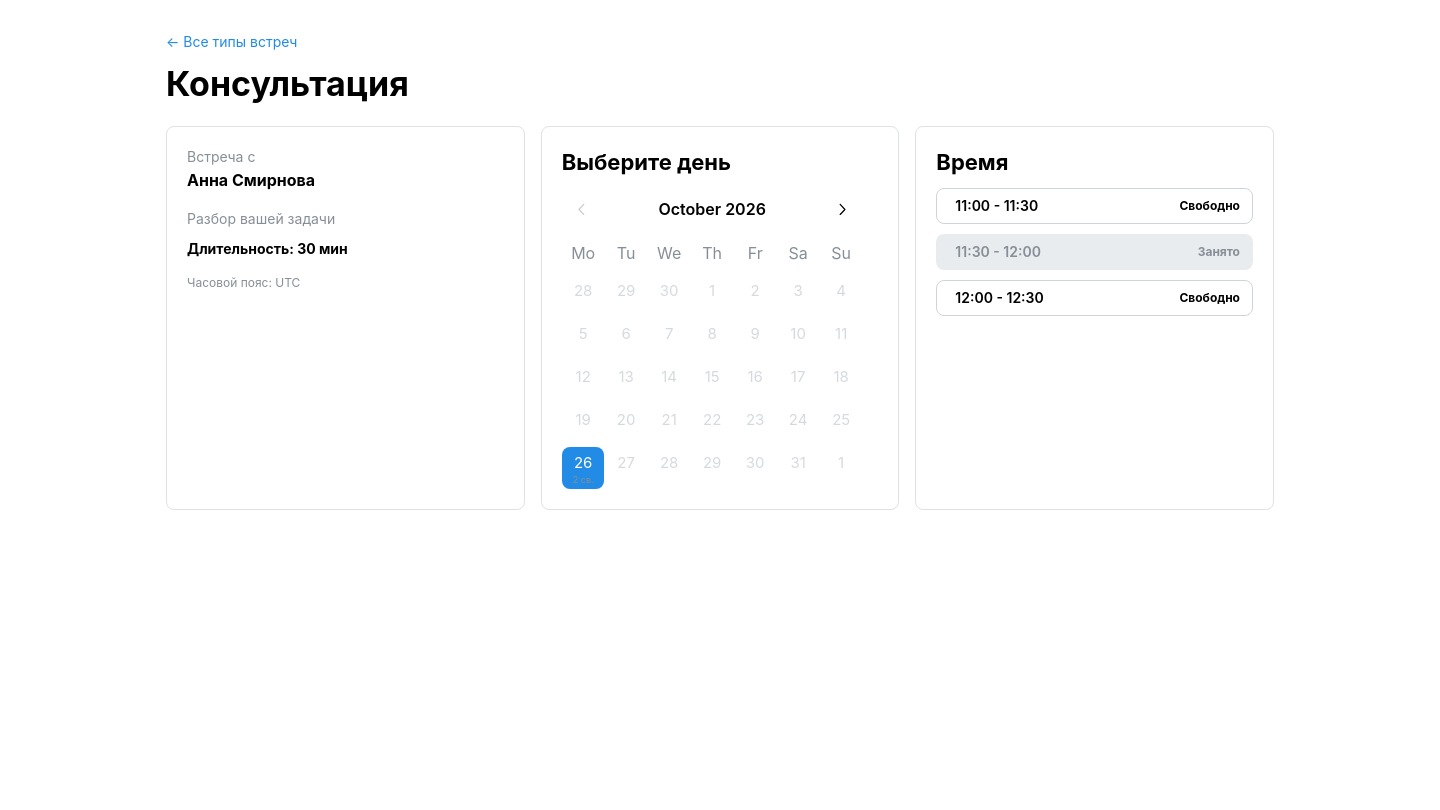
Test: гостевая страница: запись на выбранный тип встречи › выбор слота открывает форму, успешная бронь — подтверждение
Click the button "11:00 - 11:30 Свободно".
click(997, 206)  # box [936,188,1253,224]
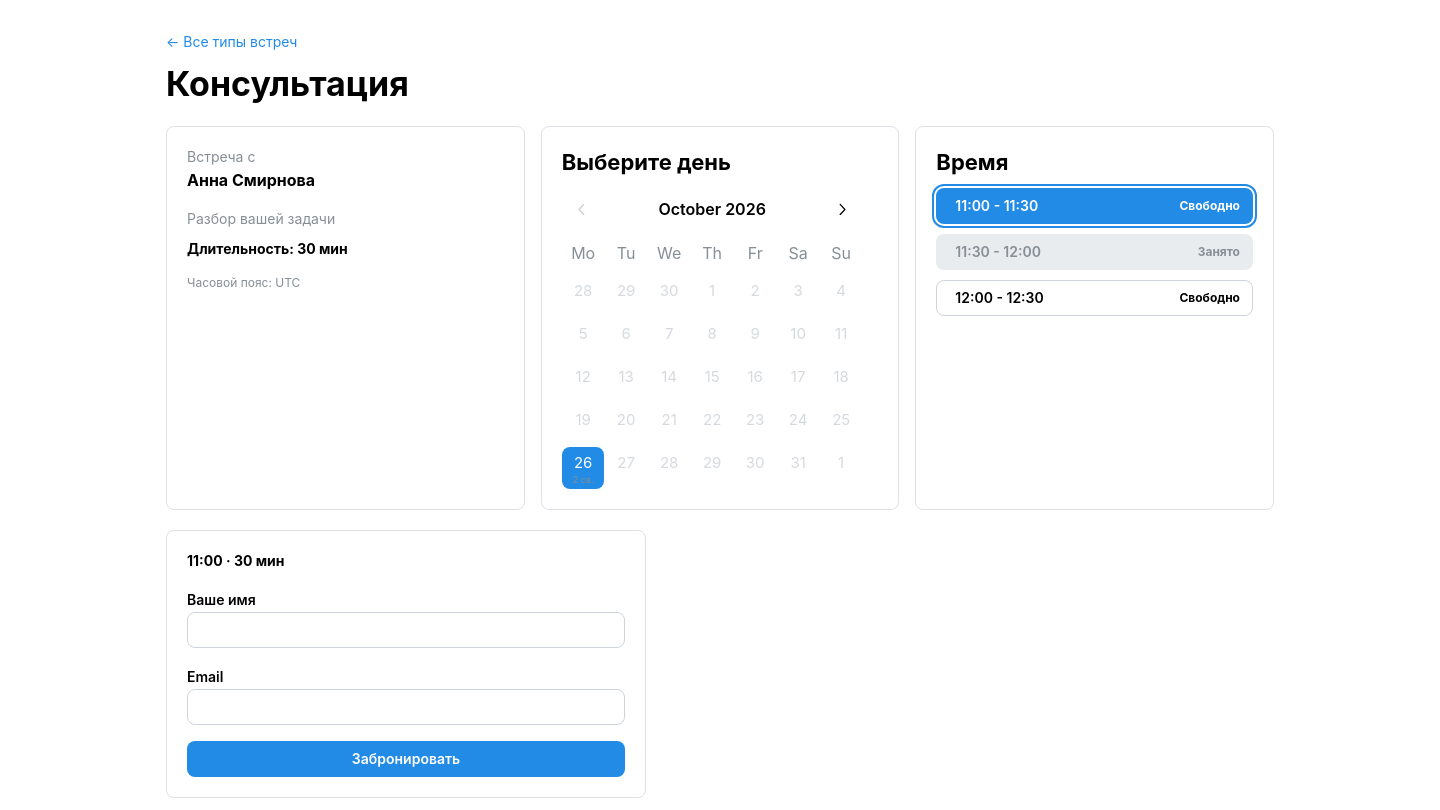
Type "Гость" into the field labelled "Ваше имя".
click(406, 630); type("Гость")  # box [187,612,625,648]
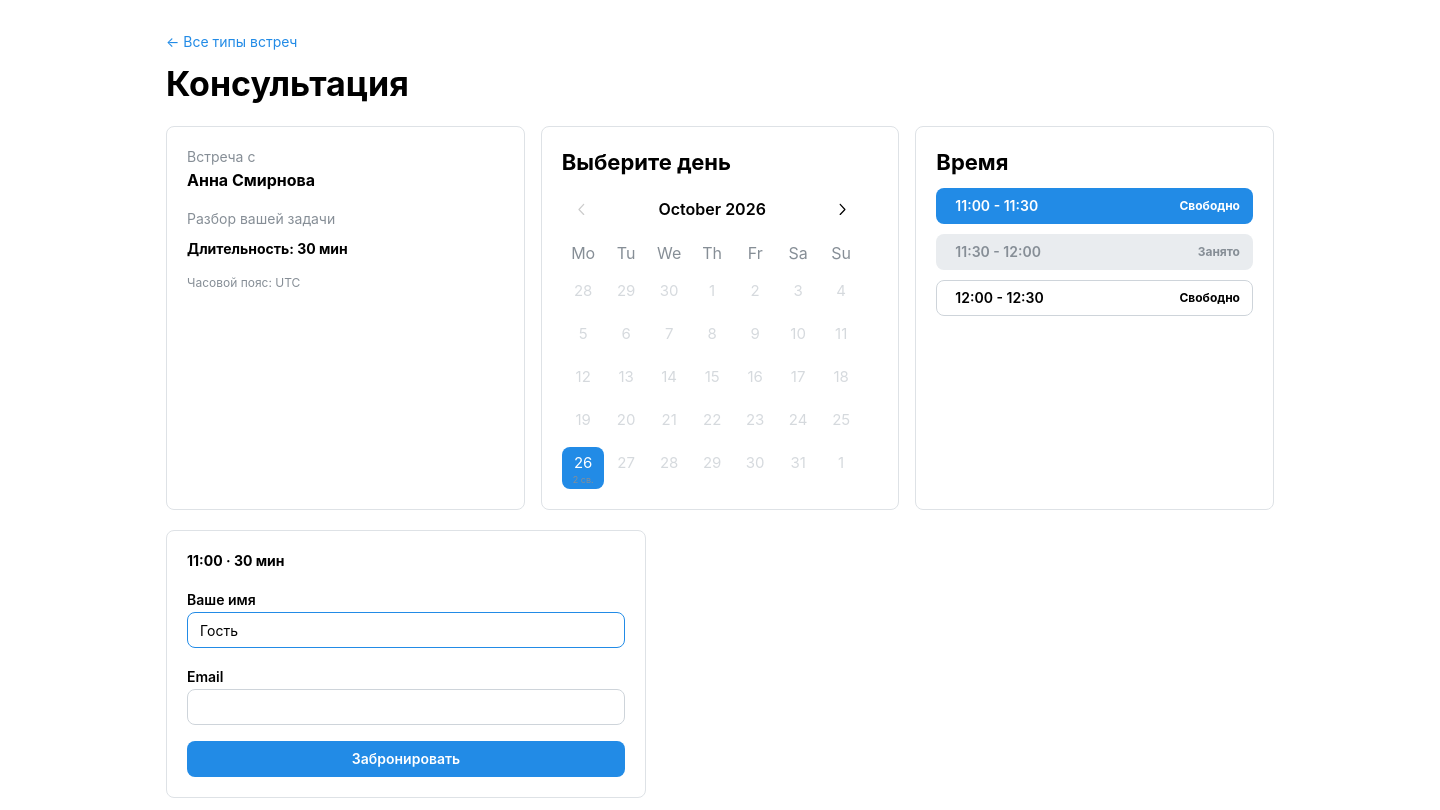
Type "guest@example.com" into the field labelled "Email".
click(406, 707); type("guest@example.com")  # box [187,689,625,725]
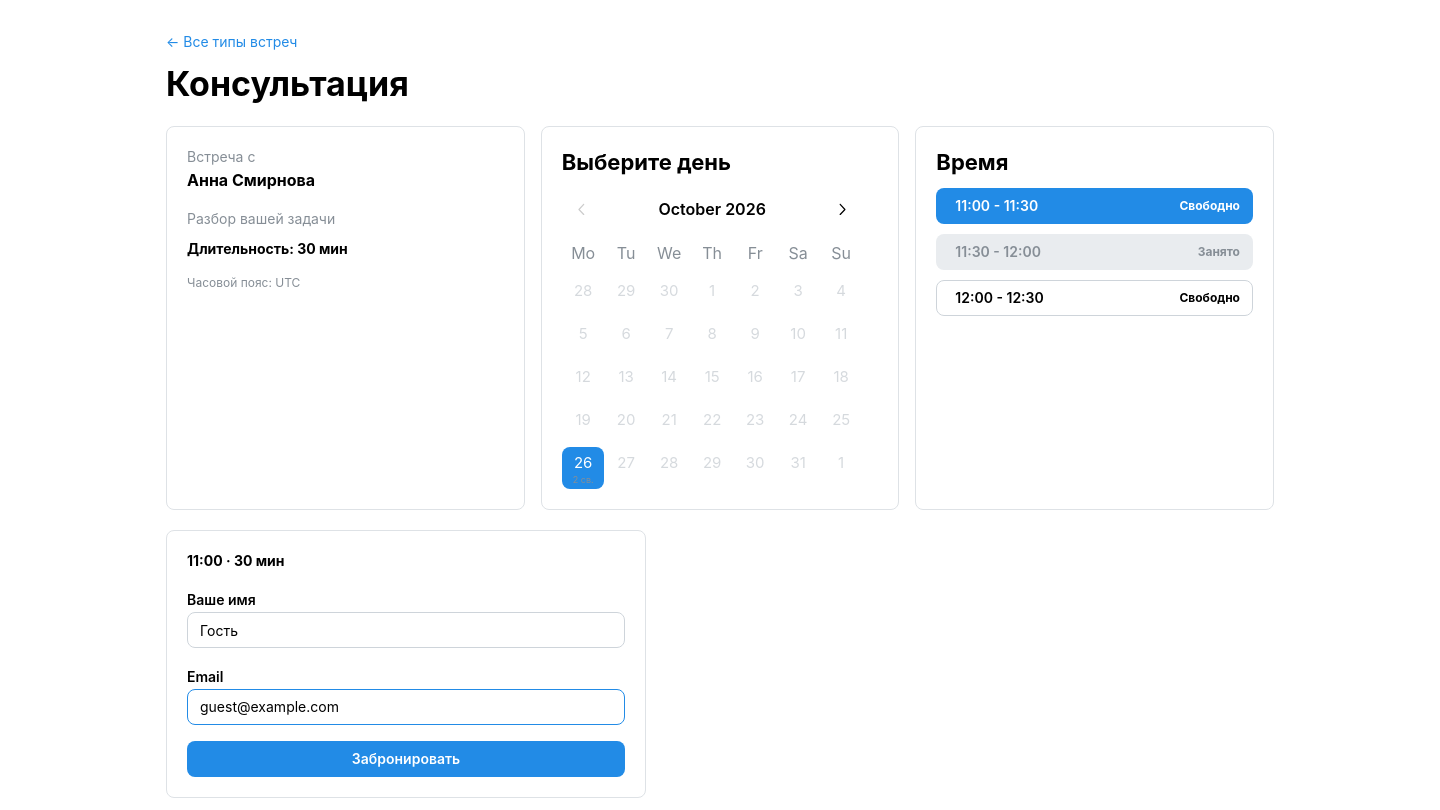
Click the button "Забронировать".
click(406, 759)  # box [187,741,625,777]
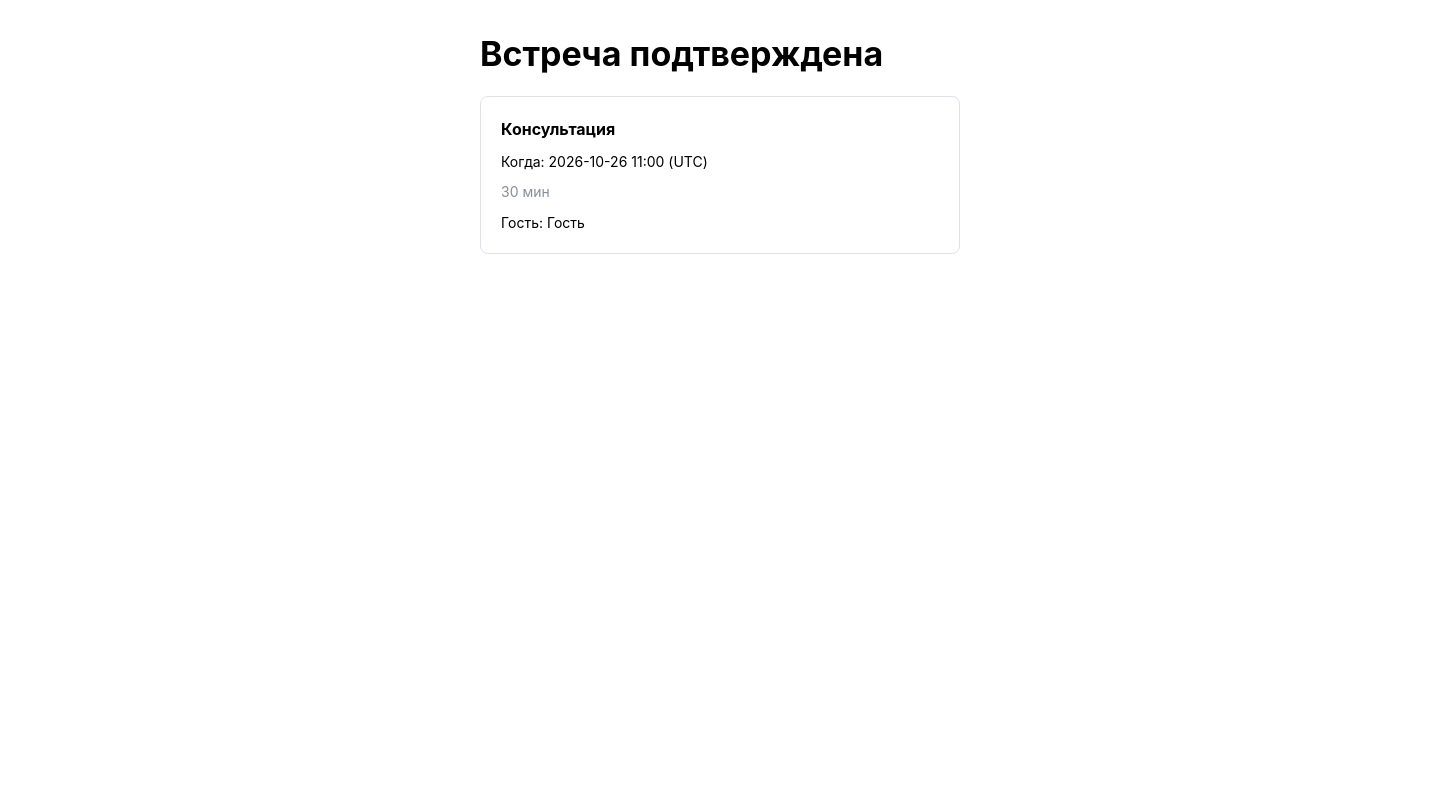
Expected: the text "Консультация" is shown, [501,119,615,139]
Expected: the heading "Встреча подтверждена" is shown, [480,33,883,74]
Expected: the text "Гость: Гость" is shown, [501,214,585,231]
